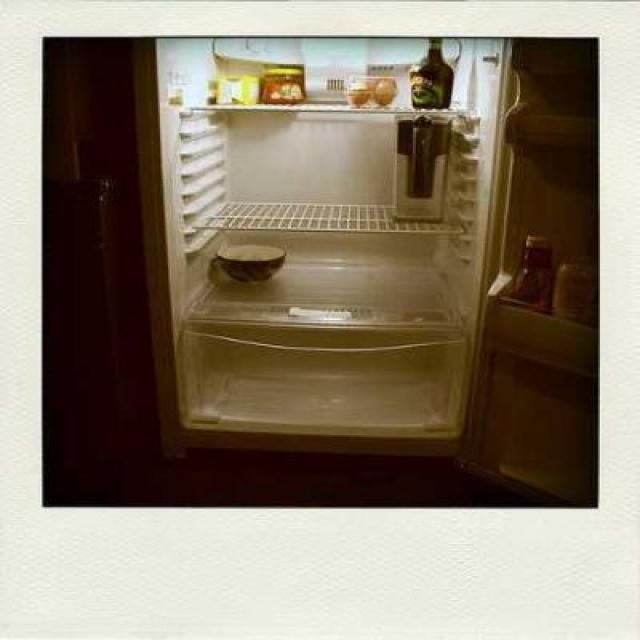refrigerator: (144, 38, 512, 444)
